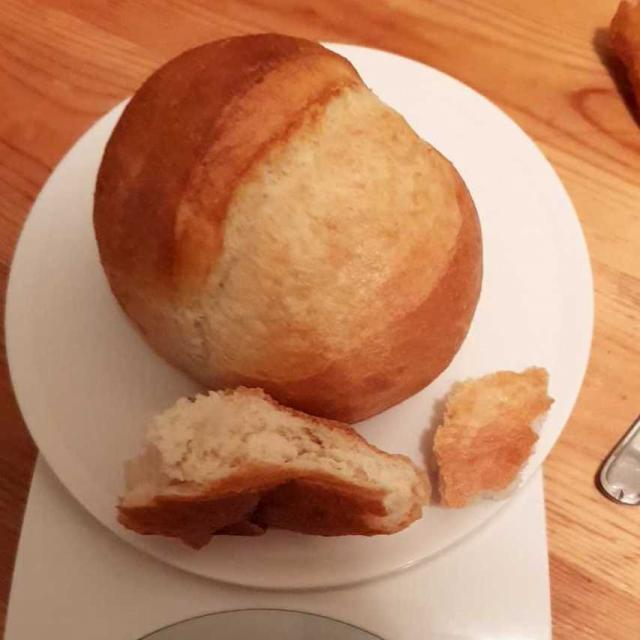bread: (97, 32, 558, 549)
